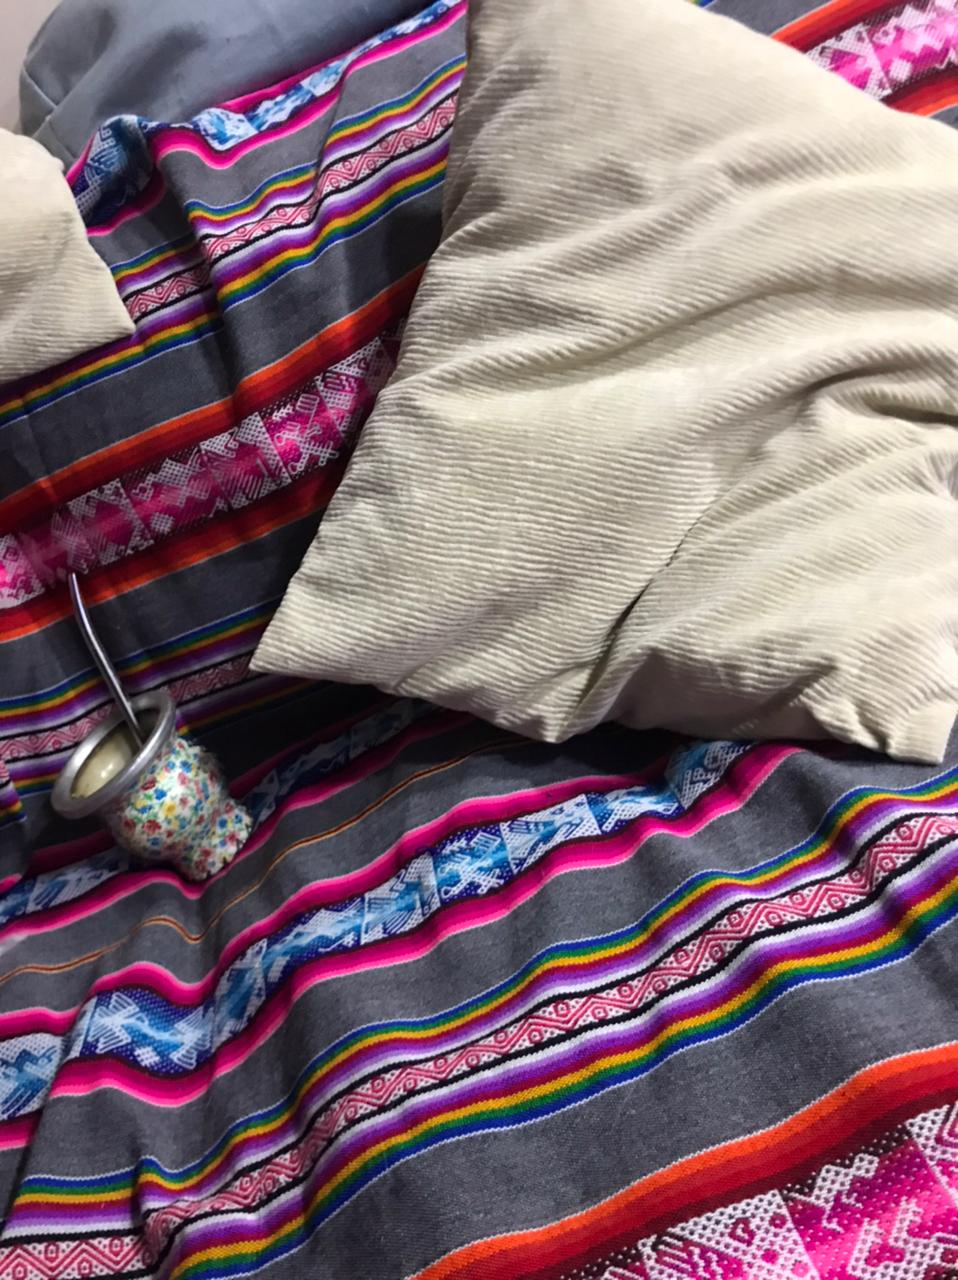mate: (24, 557, 280, 907)
